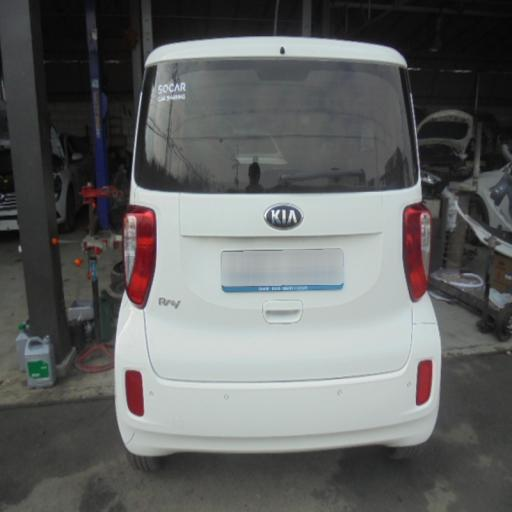normal: (128, 177, 441, 461)
